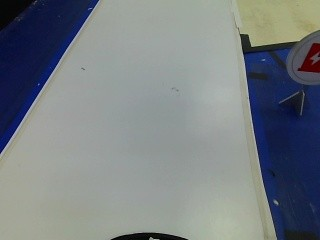battery: (282, 30, 320, 82)
